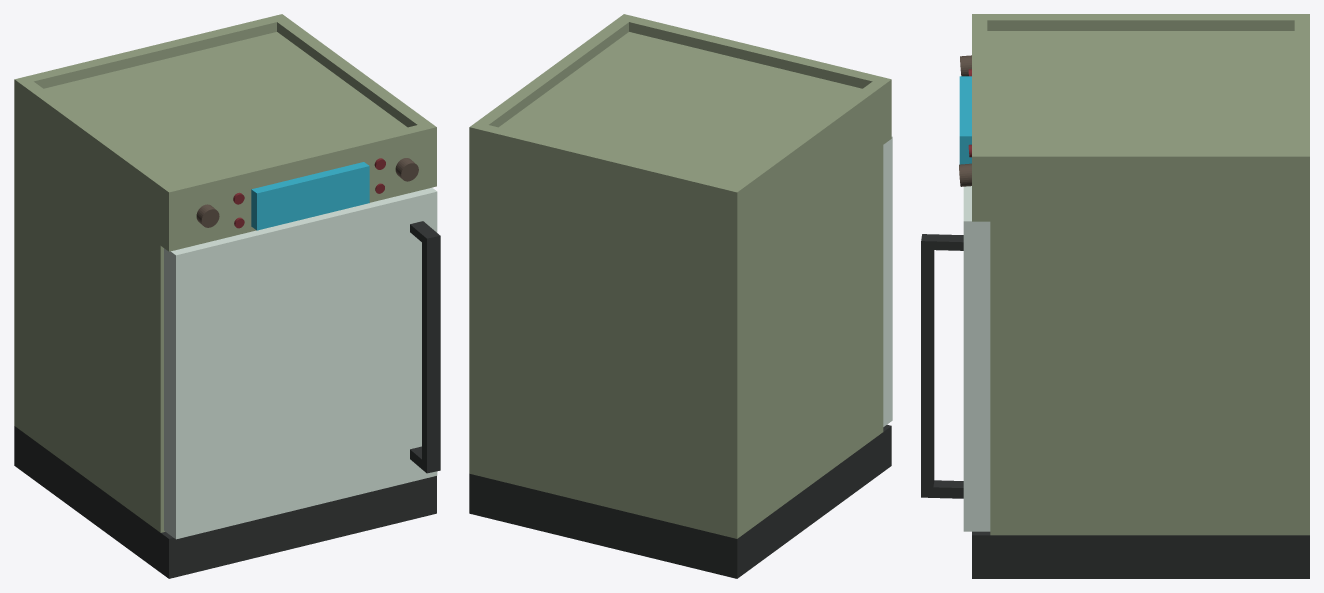
The model's file is diswasher.fbx.
3 renders of one model, left to right at view 1: azimuth 30°, elevation 25°; view 2: azimuth 150°, elevation 25°; view 3: azimuth 270°, elevation 25°, orthographic. The views are drawn at different scales.
Parts seen in each view (by area): view 1: katawan, pinto, hawakan, Cube.003, pihitan; view 2: katawan, hawakan, pinto; view 3: katawan, hawakan, pinto, Cube.003, pihitan.
Part boxes in pixels (x1,y1,x2,y2): katawan: (14,14,436,532); pinto: (164,187,437,539); hawakan: (14,221,440,578); Cube.003: (251,162,369,230); pihitan: (196,158,418,227); katawan: (469,14,891,538); hawakan: (469,424,891,578); pinto: (883,136,892,426); katawan: (972,14,1309,535); hawakan: (921,234,1309,578); pinto: (963,186,990,531); Cube.003: (959,76,971,164); pihitan: (959,55,971,186).
Size of the model in its own units: 200 by 276 by 230.
